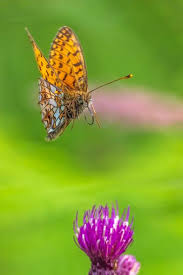Butterfly: (22, 24, 132, 141)
